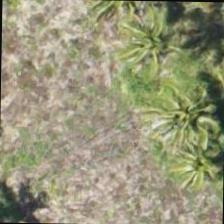Kelapa_Sawit: (99, 0, 192, 90), (134, 84, 224, 177), (161, 128, 223, 220)
